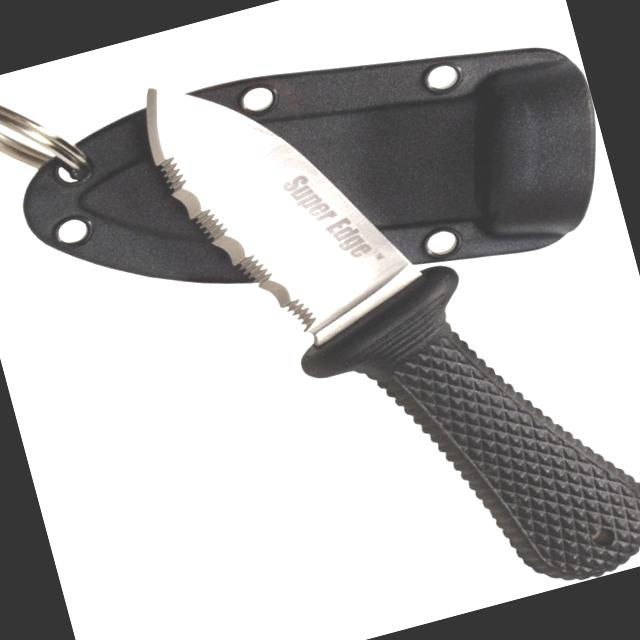knife: (130, 24, 442, 389)
